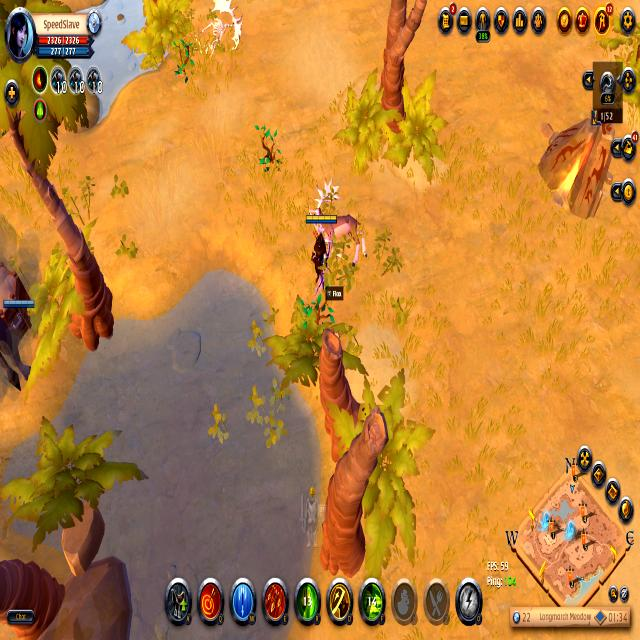mob: (324, 206, 369, 272)
red: (306, 212, 335, 290), (0, 293, 36, 316)
